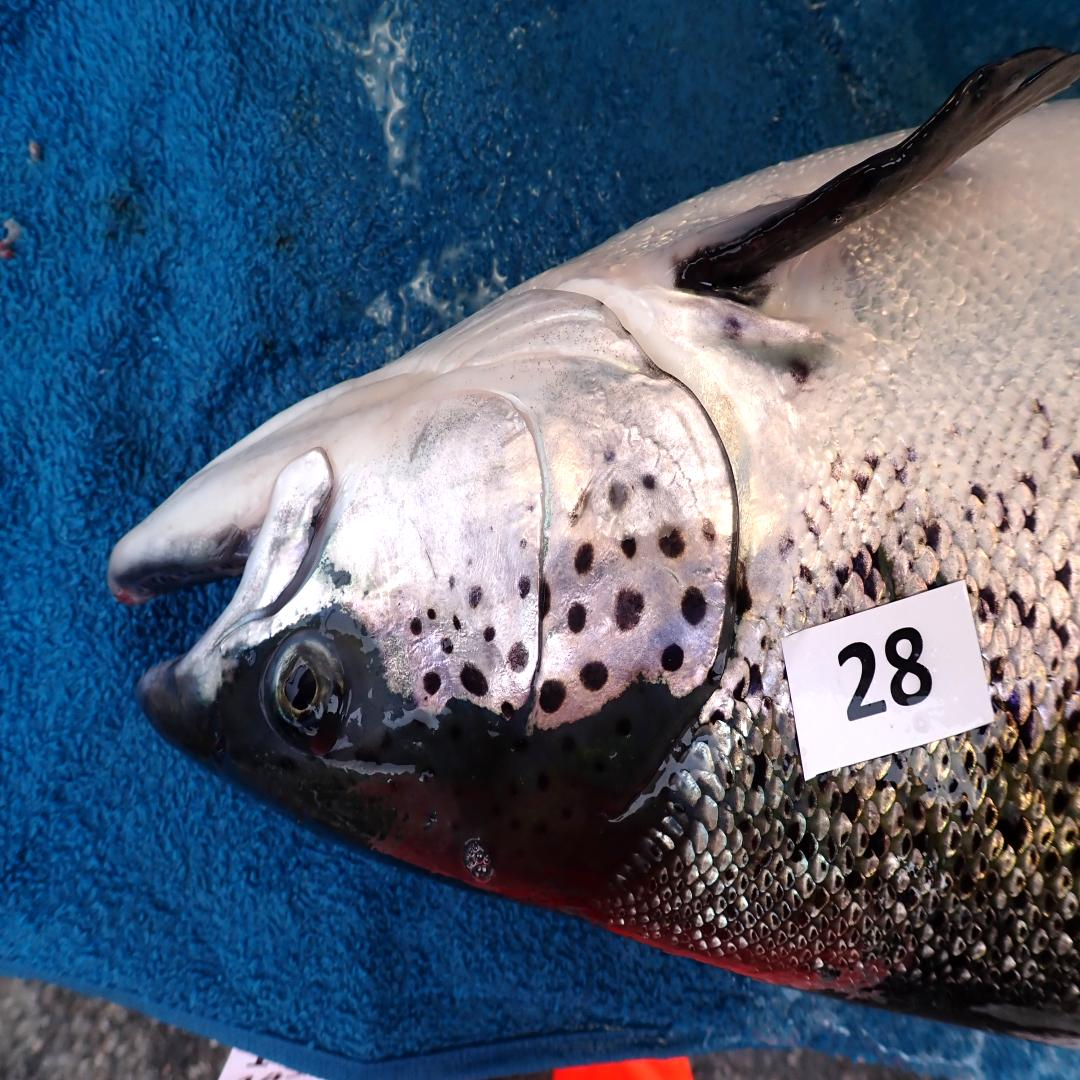roi: (332, 283, 743, 732)
